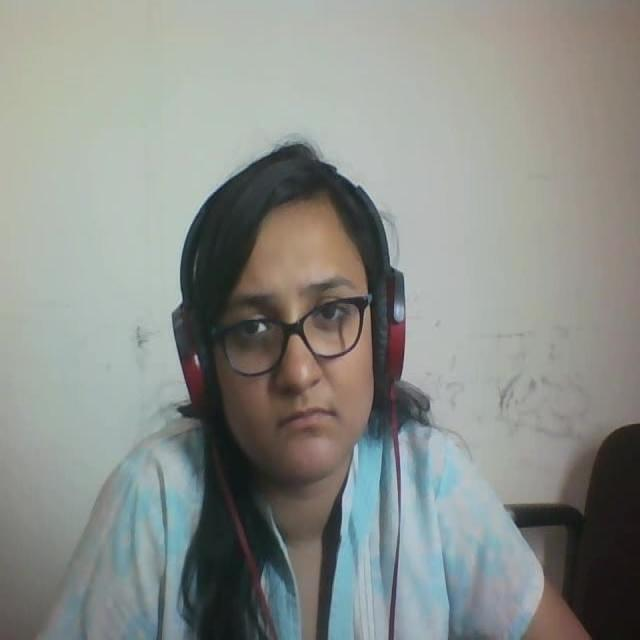Engaged: (170, 126, 404, 503)
